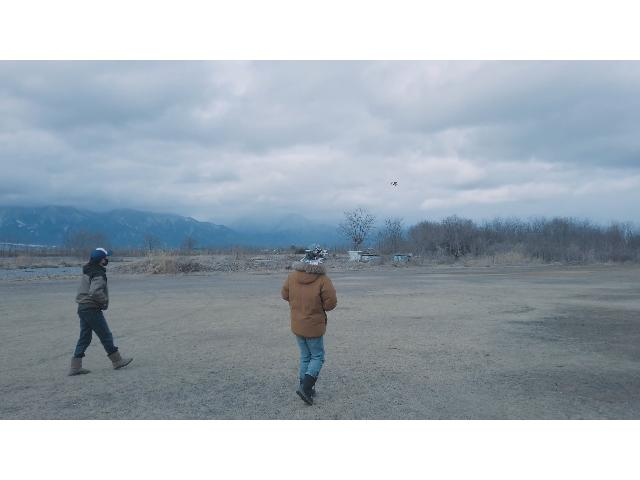Anti-Drone: (382, 176, 404, 191)
